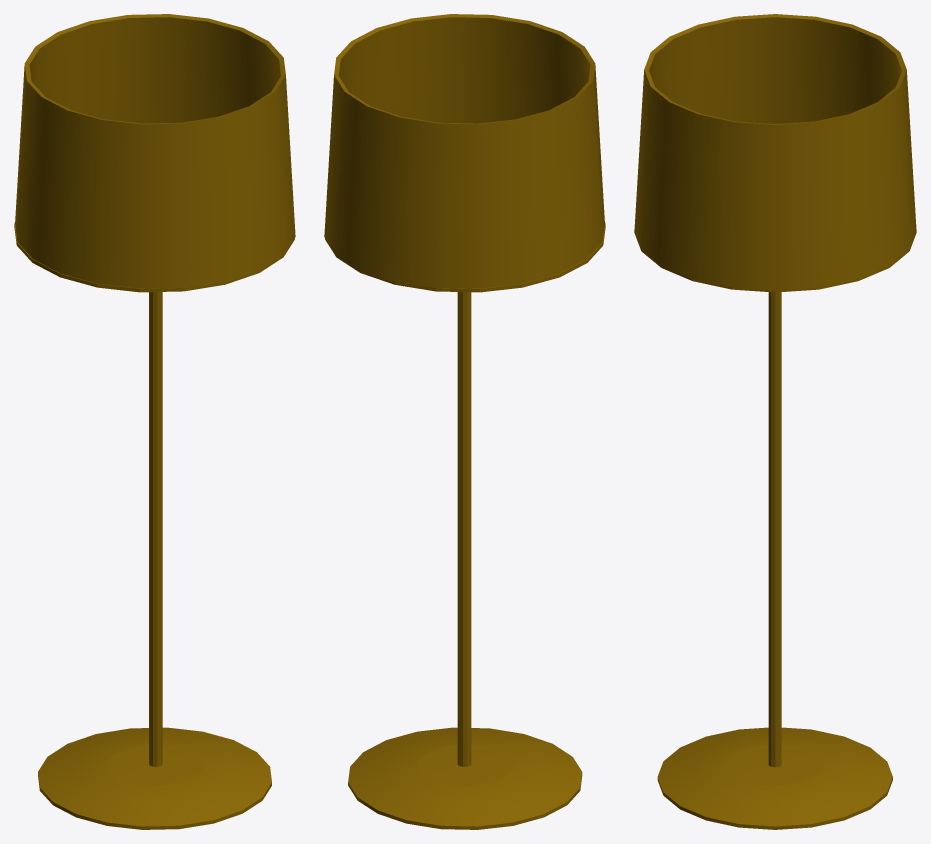
The model's file is Lamp_03.fbx.
3 views of the same model, side by side, from view 1: azimuth 30°, elevation 25°; view 2: azimuth 150°, elevation 25°; view 3: azimuth 270°, elevation 25° (orthographic).
Visible parts, largest first — view 1: Lamp_03; view 2: Lamp_03; view 3: Lamp_03.
Boxes of the visible parts, bbox=[...] form: Lamp_03: bbox=[14, 14, 295, 829]; Lamp_03: bbox=[324, 14, 605, 829]; Lamp_03: bbox=[634, 14, 916, 829].
Bounding box in the file's own units: 65.63 × 182 × 65.47.
